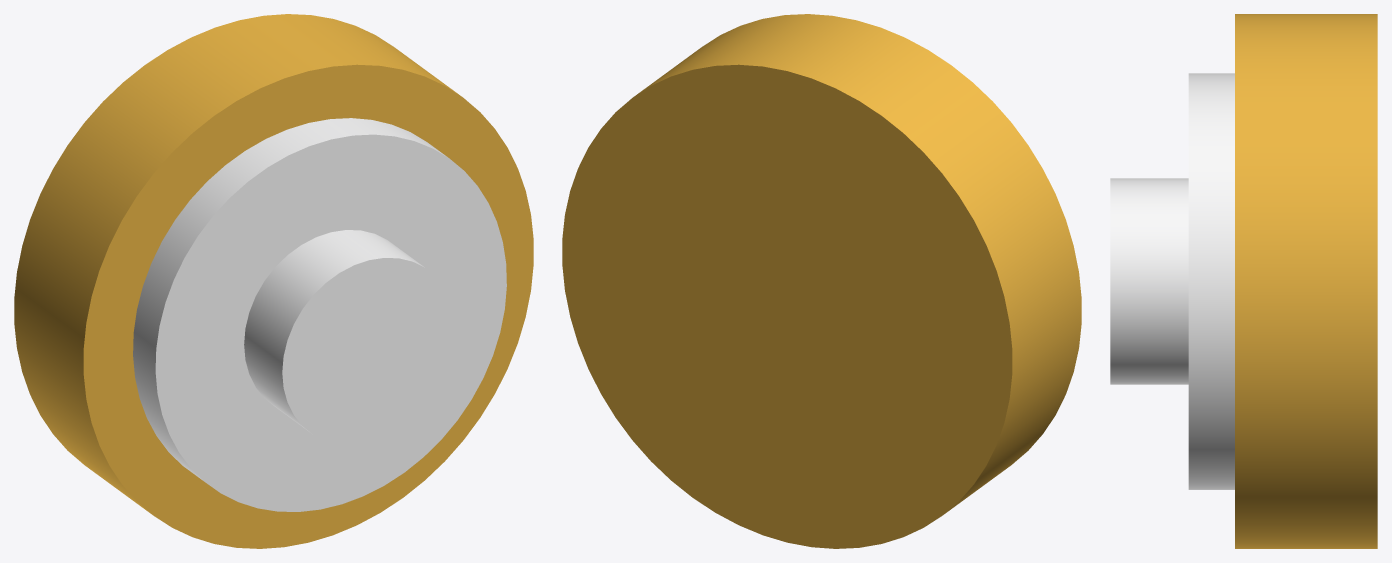
File: argo_wheel.dae
The picture shows the model from 3 angles, left to right: view 1: azimuth 30°, elevation 25°; view 2: azimuth 150°, elevation 25°; view 3: azimuth 270°, elevation 25°; orthographic projection. The views are drawn at different scales.
Visible parts, largest first — view 1: EMROX-Argo INESC TEC Plattform Rad V1.02.001; view 2: EMROX-Argo INESC TEC Plattform Rad V1.02.001; view 3: EMROX-Argo INESC TEC Plattform Rad V1.02.001.
Boxes of the visible parts, box(x1,y1,x2,y2) form: EMROX-Argo INESC TEC Plattform Rad V1.02.001: box(14, 14, 533, 548); EMROX-Argo INESC TEC Plattform Rad V1.02.001: box(562, 14, 1081, 548); EMROX-Argo INESC TEC Plattform Rad V1.02.001: box(1110, 14, 1377, 548).
Bounding box in the file's own units: 1.5 × 0.75 × 1.5.
